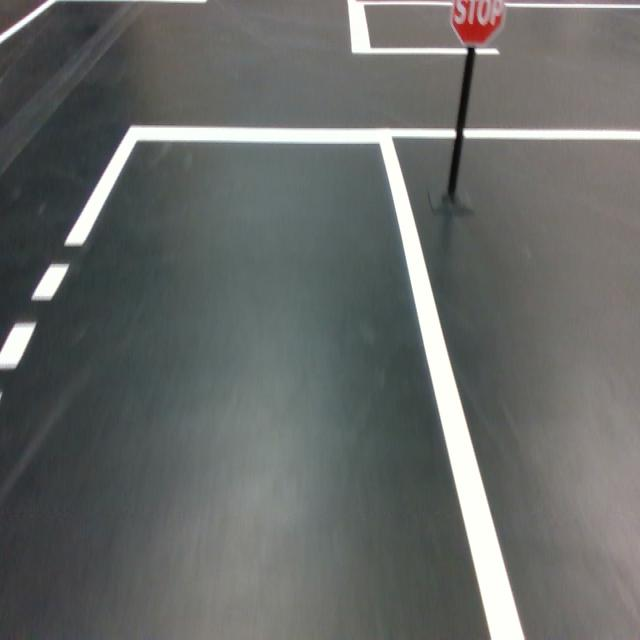stop-sign: (448, 0, 508, 49)
